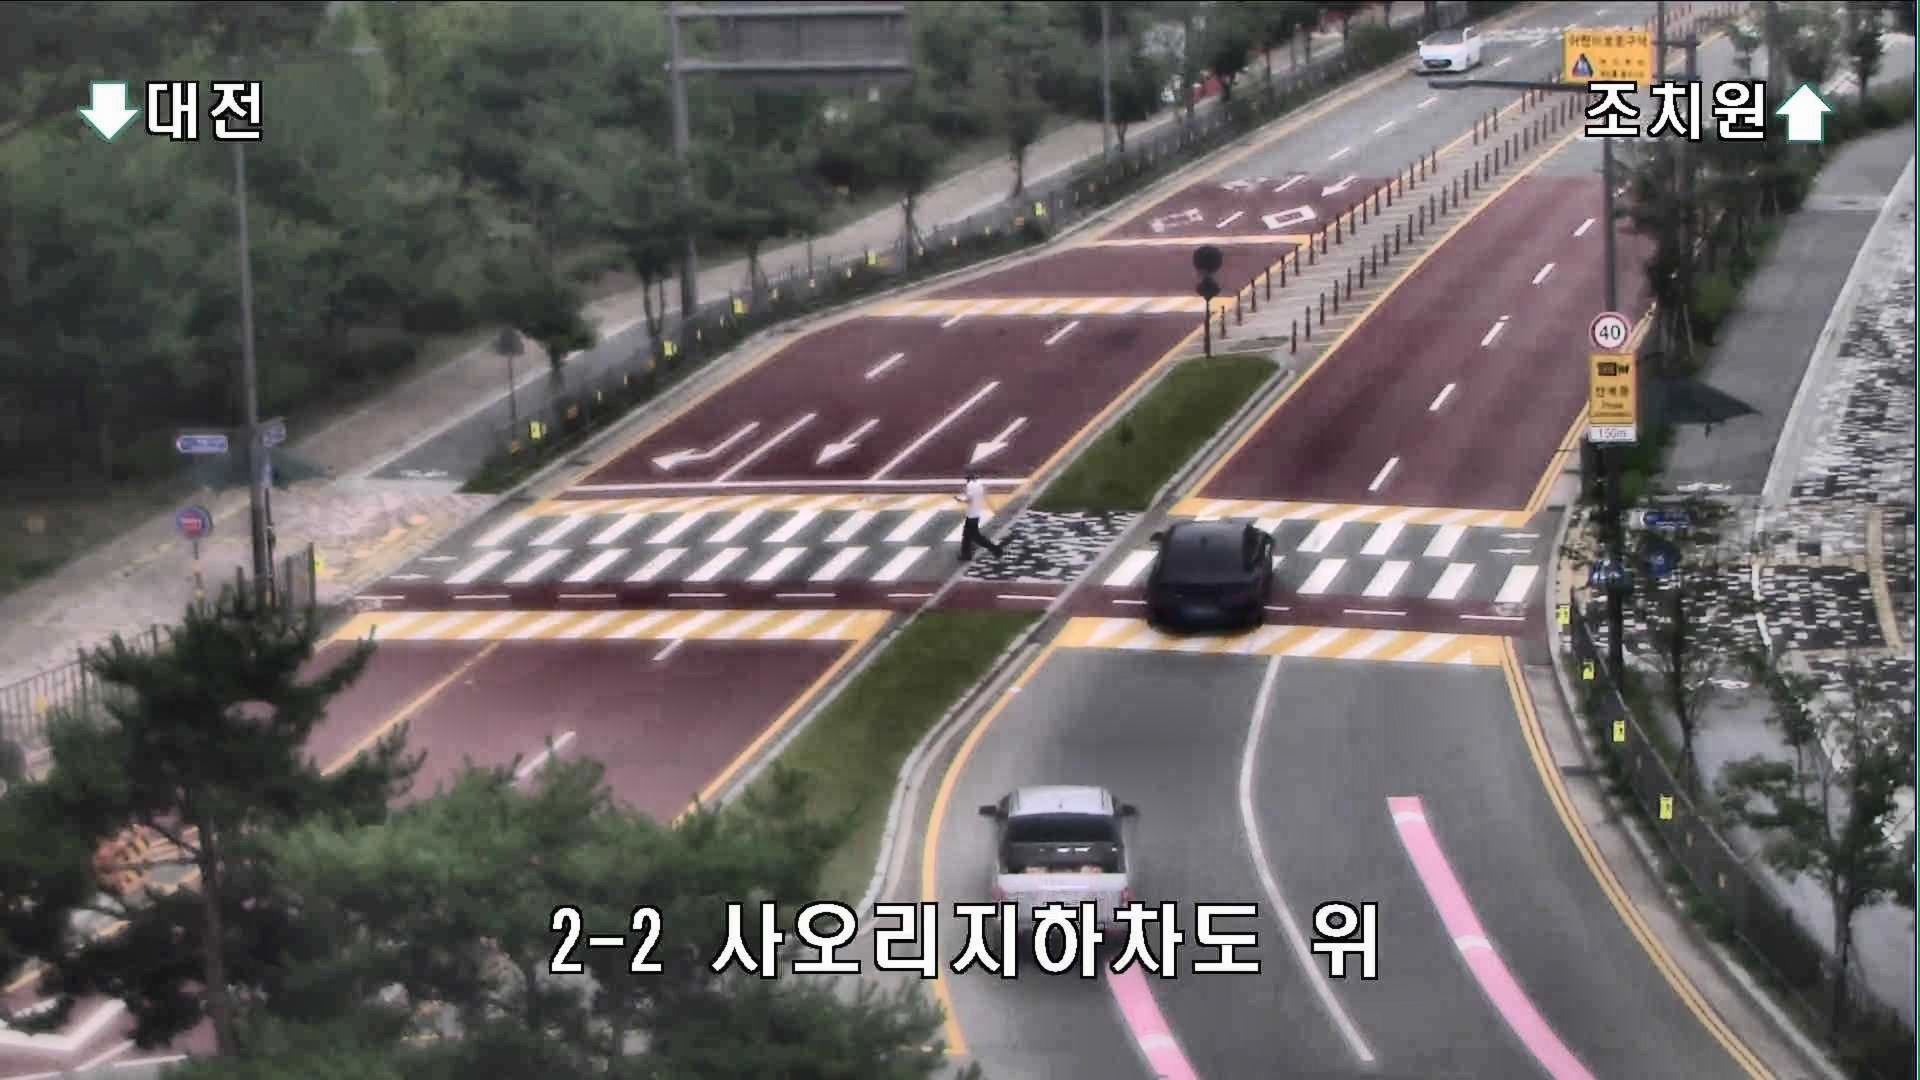crosswalk: (949, 462, 1005, 563)
